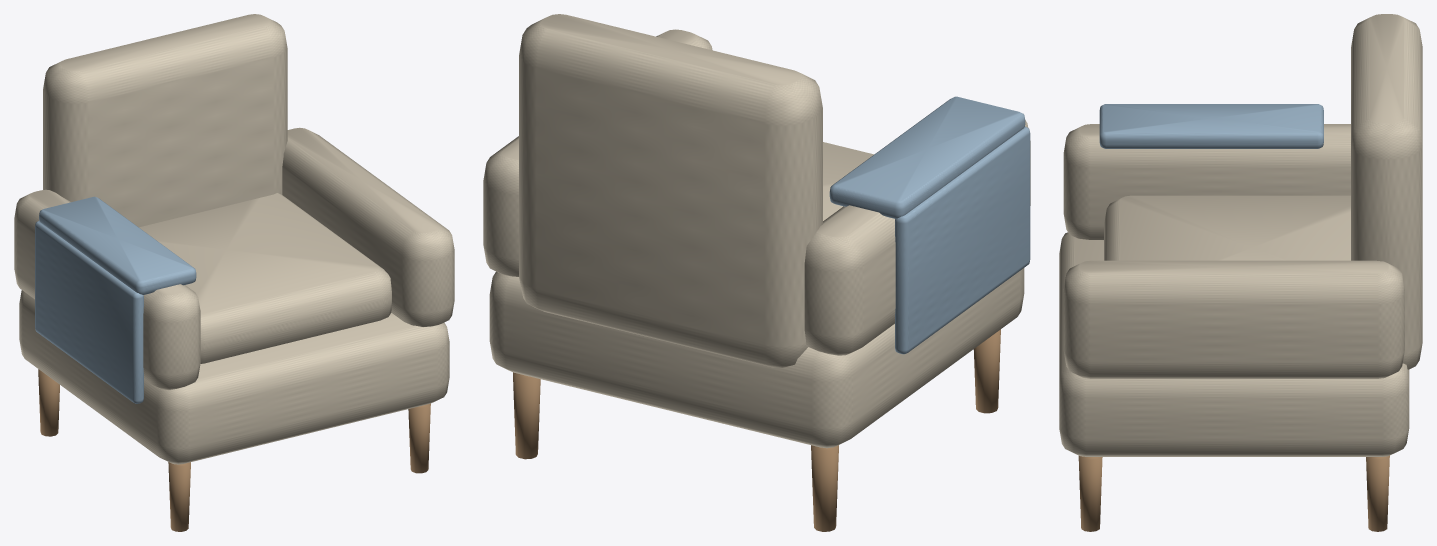
The model's file is armchair.glb.
3 renders of one model, left to right at view 1: azimuth 30°, elevation 25°; view 2: azimuth 150°, elevation 25°; view 3: azimuth 270°, elevation 25°, orthographic. The views are drawn at different scales.
Visible parts, largest first — view 1: Armchair; view 2: Armchair; view 3: Armchair.
Part boxes in pixels (bbox=[...]): Armchair: bbox=[14, 14, 454, 531]; Armchair: bbox=[483, 14, 1030, 531]; Armchair: bbox=[1059, 14, 1422, 531].
Size of the model in its own units: 0.885 by 0.97 by 0.81.
Materials: 3 (2 with a texture image).
